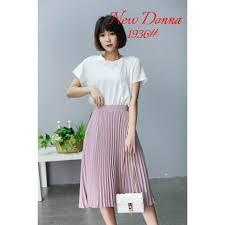Tshirt: (72, 51, 147, 104)
skirt: (80, 104, 153, 210)
